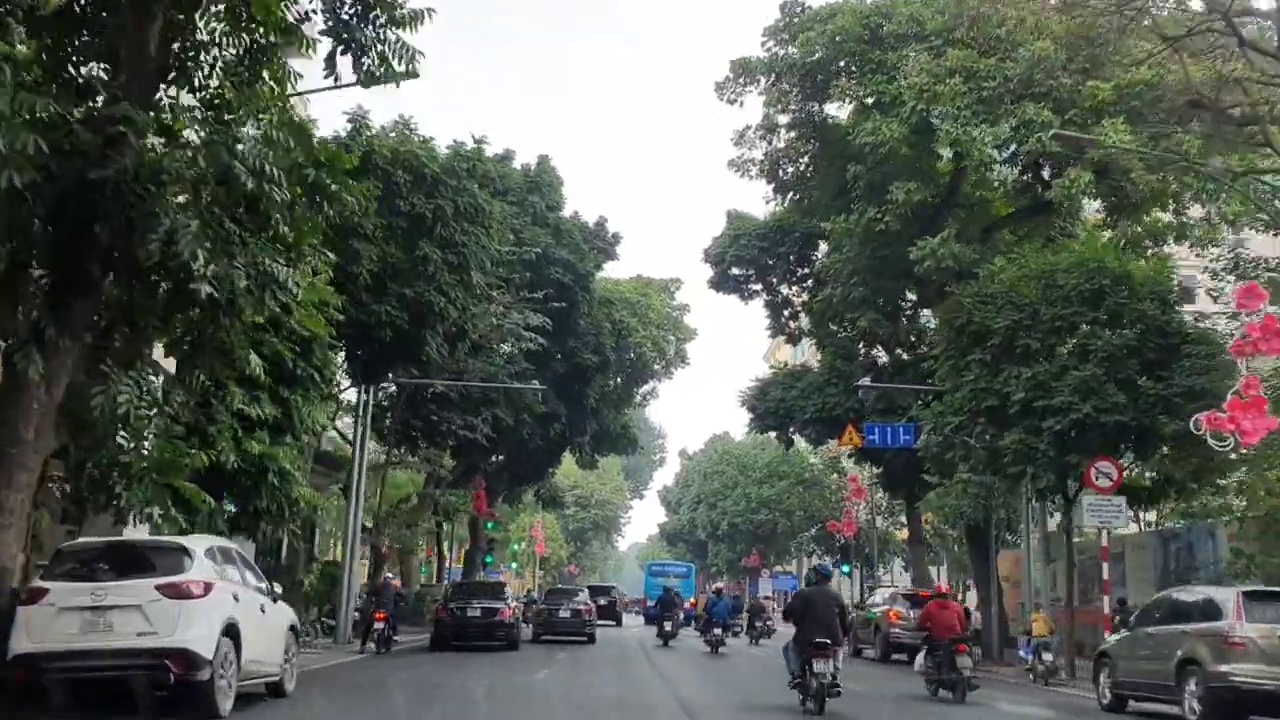vehicle-plate: (80, 606, 115, 635), (813, 657, 836, 674), (463, 605, 483, 618), (956, 655, 975, 667), (1039, 650, 1055, 660), (558, 607, 571, 618), (662, 620, 671, 628), (373, 621, 384, 627)
